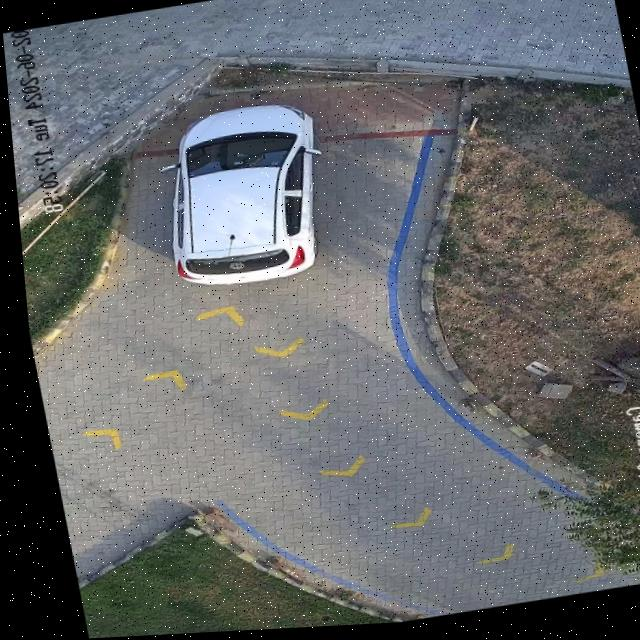car: (158, 105, 316, 286)
